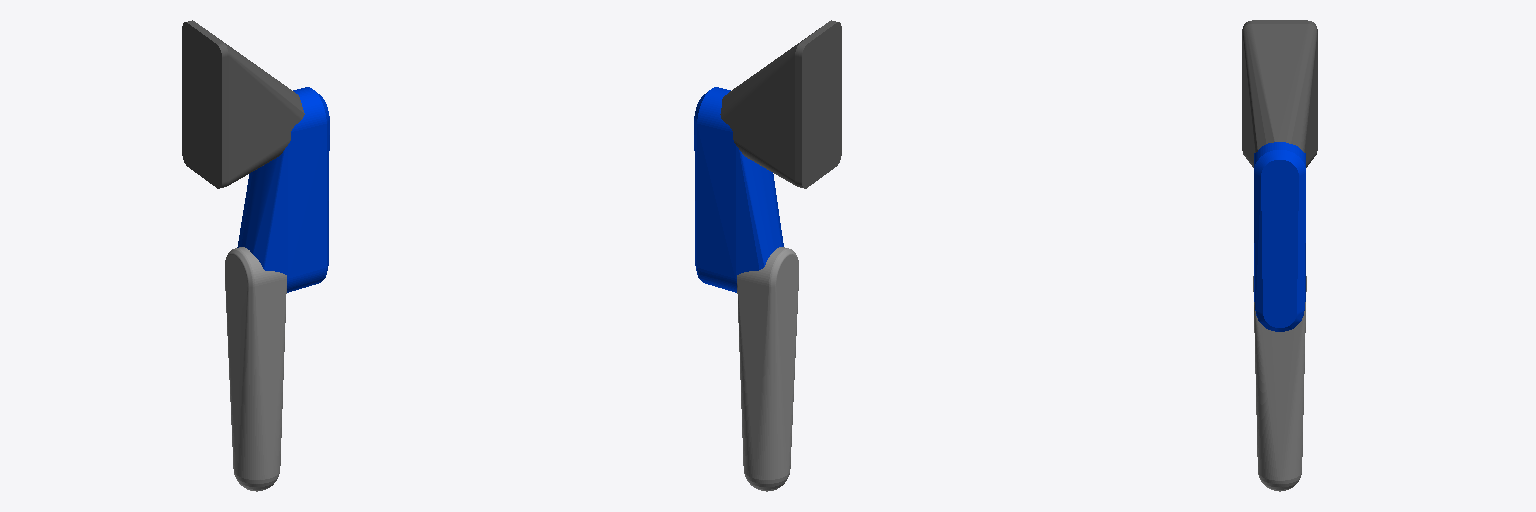
The robot description file, URDF, robot "awesome_leg":
<?xml version="1.0" ?>
<!-- =================================================================================== -->
<!-- |    This document was autogenerated by xacro from awesome_leg_floating.urdf.xacro | -->
<!-- |    EDITING THIS FILE BY HAND IS NOT RECOMMENDED                                 | -->
<!-- =================================================================================== -->
<robot name="awesome_leg">
  <!--<xacro:property name="sliding_guide_dyn_friction" value="50.0" />-->
  <!-- <xacro:property name="payload_mass" value="7.38" /> -->
  <!-- color -->
  <material name="darkblue">
    <color rgba="0.0 0.3 0.9 1"/>
  </material>
  <material name="dark">
    <color rgba="0.6 0.6 0.6 1"/>
  </material>
  <material name="sky_blue">
    <color rgba="0.13 0.44 0.70 1"/>
  </material>
  <material name="grey">
    <color rgba=" 0.6 0.6 0.6 1"/>
  </material>
  <material name="black">
    <color rgba="0.4 0.4 0.4 1"/>
  </material>
  <material name="brown">
    <color rgba="0.59 0.29 0.0 1"/>
  </material>
  <!-- xbot2 joint device driver-->
  <gazebo>
    <plugin filename="libxbot2_gz_joint_server.so" name="xbot2_gz_joint_server">
      <pid>
        <gain d="0" name="null_mode" p="0"/>
        <gain d="5" name="small_mot" p="250"/>
        <gain d="10" name="medium_mot" p="1000"/>
        <gain d="10" name="big_mot" p="3000"/>
        <gain name="test_rig2HIP" profile="null_mode"/>
        <gain name="hip_actuation" profile="medium_mot"/>
        <gain name="knee_actuation" profile="medium_mot"/>
      </pid>
    </plugin>
  </gazebo>
  <gazebo>
    <plugin filename="libxbot2_gz_ft_server.so" name="xbot2_ft_driver"/>
  </gazebo>
  <gazebo>
    <plugin filename="libxbot2_gz_link_state_sensor.so" name="xbot2_link_state_sensor">
      <links>
        <link name="base_link"/>
      </links>
    </plugin>
  </gazebo>
  <!--Gazebo-specific tags-->
  <gazebo reference="test_rig">
    <material>Gazebo/DarkGrey   </material>
  </gazebo>
  <gazebo reference="base_link">
    <material>Gazebo/Grey  </material>
  </gazebo>
  <!-- <xacro:if value="$(arg dump_video_frames)">

        <joint name="test_rig_2camera_link" type="fixed">
        <parent link="test_rig" />
        <child link="camera_link" />
        <origin xyz="0 ${camera_depth} ${camera_height}" rpy="0 0 0" />
        </joint>

        <link name="camera_link">
            <visual name="visual">
            <geometry>
            <box>
            <size>0.1 0.1 0.1</size>
            </box>
            </geometry>
            </visual>

        </link>

    </xacro:if> -->
  <link name="world"/>
  <joint name="world_test_rig" type="floating">
    <parent link="world"/>
    <child link="base_link"/>
    <origin rpy="0.0 0.0 -1.57079632679" xyz="0.18 0 0.75"/>
  </joint>
  <link name="base_link">
    <visual name="base_link_visual">
      <origin rpy="0.0 0.0 0.0" xyz="0.0 0.0 0.0"/>
      <geometry>
        <mesh filename="package://awesome_leg/description/new_meshes/visual/base.stl" scale="0.1 0.1 0.1"/>
      </geometry>
      <material name="black"/>
    </visual>
    <collision>
      <origin rpy="0.0 0.0 0.0" xyz="0.0 0.0 0.0"/>
      <geometry>
        <mesh filename="package://awesome_leg/description/new_meshes/collision/base.stl" scale="0.1 0.1 0.1"/>
      </geometry>
    </collision>
    <inertial>
      <mass value="6.5477704"/>
      <inertia ixx="0.044624842" ixy="-1.4644877999999999e-05" ixz="3.0225947e-05" iyy="0.02697759" iyz="0.009663635799999999" izz="0.027956754"/>
    </inertial>
  </link>
  <!--Gazebo-specific tags-->
  <gazebo reference="femur1">
    <material>Gazebo/SkyBlue  </material>
  </gazebo>
  <gazebo reference="shin1">
    <material>Gazebo/Grey  </material>
  </gazebo>
  <gazebo reference="shin1">
    <collision>
      <max_contacts> 20 </max_contacts>
      <surface>
        <friction>
          <ode>
            <mu>1</mu>
            <mu2>1</mu2>
          </ode>
          <bullet>
            <friction>1.0</friction>
            <friction2>1.0</friction2>
          </bullet>
        </friction>
        <!-- <contact>
                        <ode>
                            <kp>2100000</kp>
                            <kd>1</kd>
                            <max_vel>100</max_vel>
                        </ode>
                        <bullet>
                            <soft_cfm>0.007</soft_cfm>
                            <soft_erp>0.25</soft_erp>
                            <kp>1000000</kp>
                            <kd>5</kd>
                        </bullet>
                    </contact> -->
      </surface>
    </collision>
  </gazebo>
  <gazebo reference="tip1">
    <collision>
      <max_contacts> 1 </max_contacts>
      <surface>
        <friction>
          <ode>
            <mu>1</mu>
            <mu2>1</mu2>
          </ode>
          <bullet>
            <friction>1.0</friction>
            <friction2>1.0</friction2>
          </bullet>
        </friction>
        <contact>
          <ode>
            <kp>1000000000000</kp>
            <kd>1</kd>
            <!-- <max_vel>100</max_vel> -->
          </ode>
          <!-- <bullet>
                            <soft_cfm>0.007</soft_cfm>
                            <soft_erp>0.25</soft_erp>
                            <kp>1000000</kp>
                            <kd>5</kd>
                        </bullet> -->
        </contact>
      </surface>
    </collision>
  </gazebo>
  <!-- <xacro:if value="${ dump_video_frames== True}">

            <gazebo reference="camera">
                <sensor name="my_camera" type="camera">
                    <camera>
                        <save enabled="true">
                            <path "$(find awesome_leg)/description/urdf/utils.urdf.xacro" >
                        </save>
                        <horizontal_fov>1</horizontal_fov>
                        <image>
                        <width>1920</width>
                        <height>1080</height>
                        </image>
                        <clip>
                        <near>0.1</near>
                        <far>100</far>
                        </clip>
                        <view_controller>orbit</view_controller>
                    </camera>
                    <always_on>1</always_on>
                    <visualize>false</visualize>
                    <update_rate>30</update_rate>
                </sensor>
            </gazebo>

        </xacro:if> -->
  <!-- only add joint to base if argument is non-empty -->
  <joint name="hip_pitch_1" type="revolute">
    <parent link="base_link"/>
    <child link="femur1"/>
    <axis xyz="0 1 0"/>
    <origin xyz="0 0.21459999999999999 0"/>
    <limit effort="112" lower="-2.4" upper="2.4" velocity="20.0"/>
  </joint>
  <link name="femur1">
    <inertial>
      <origin xyz="0.0 0.0 0.0"/>
      <mass value="3.3712777"/>
      <inertia ixx="0.046647423" ixy="-1.269764e-05" ixz="-3.2745809999999995e-05" iyy="0.043720135" iyz="-0.063299091" izz="0.07579481299999999"/>
    </inertial>
    <visual>
      <origin rpy="0.0 0.0 0.0" xyz="0.0 0.0 0.0"/>
      <geometry>
        <mesh filename="package://awesome_leg/description/new_meshes/visual/femur.stl" scale="0.1 0.1 0.1"/>
      </geometry>
      <material name="darkblue"/>
    </visual>
    <collision>
      <origin rpy="0.0 0.0 0.0" xyz="0.0 0.0 0.0"/>
      <geometry>
        <mesh filename="package://awesome_leg/description/new_meshes/collision/femur.stl" scale="0.1 0.1 0.1"/>
      </geometry>
    </collision>
  </link>
  <joint name="knee_pitch_1" type="revolute">
    <parent link="femur1"/>
    <child link="shin1"/>
    <origin rpy="0.0 0.0 0.0" xyz="0.0 -0.1182 -0.3"/>
    <axis xyz="0 -1 0"/>
    <limit effort="112" lower="-2.4" upper="2.4" velocity="20.0"/>
  </joint>
  <link name="shin1">
    <inertial>
      <origin xyz="0.0 0.0 0.0"/>
      <mass value="1.3106594"/>
      <inertia ixx="0.040133964999999994" ixy="4.6219082e-08" ixz="-3.043232e-07" iyy="0.040269285" iyz="0.0013816329" izz="0.0015274496"/>
    </inertial>
    <visual>
      <origin rpy="0.0 0.0 0.0" xyz="0.0 0.0 0.0"/>
      <geometry>
        <mesh filename="package://awesome_leg/description/new_meshes/visual/shin.stl" scale="0.1 0.1 0.1"/>
      </geometry>
      <material name="grey"/>
    </visual>
    <collision>
      <origin rpy="0.0 0.0 0.0" xyz="0.0 0.0 0.0"/>
      <geometry>
        <mesh filename="package://awesome_leg/description/new_meshes/collision/shin.stl" scale="0.1 0.1 0.1"/>
      </geometry>
    </collision>
  </link>
  <joint name="tip_joint_1" type="fixed">
    <parent link="shin1"/>
    <child link="tip1"/>
    <origin xyz="0.0 0.0233 -0.451"/>
  </joint>
  <link name="tip1"/>
</robot>

--- What the picture shows (computed from the rendered views, not written in the file) ---
3 views of the same robot in one strip: view 1: azimuth 30°, elevation 25°; view 2: azimuth 150°, elevation 25°; view 3: azimuth 270°, elevation 25° (orthographic).
Robot: awesome_leg — 5 links, 4 joints (2 revolute, 1 fixed, 1 floating); root link world; default pose: all joints at 0.
Visible links, largest first — view 1: base_link, shin1, femur1; view 2: base_link, shin1, femur1; view 3: base_link, femur1, shin1.
Link boxes in pixels (bbox=[...]): base_link: bbox=[182, 20, 304, 188]; shin1: bbox=[225, 247, 286, 491]; femur1: bbox=[237, 87, 329, 292]; base_link: bbox=[720, 20, 841, 188]; shin1: bbox=[737, 247, 798, 491]; femur1: bbox=[694, 87, 783, 292]; base_link: bbox=[1242, 20, 1317, 167]; femur1: bbox=[1254, 142, 1305, 331]; shin1: bbox=[1253, 276, 1306, 491].
Bounding box of the posed robot: 0.2566 × 0.15 × 0.9776 m (x, y, z).
3 mesh visuals loaded from 3 distinct referenced files (3 binary STL).
